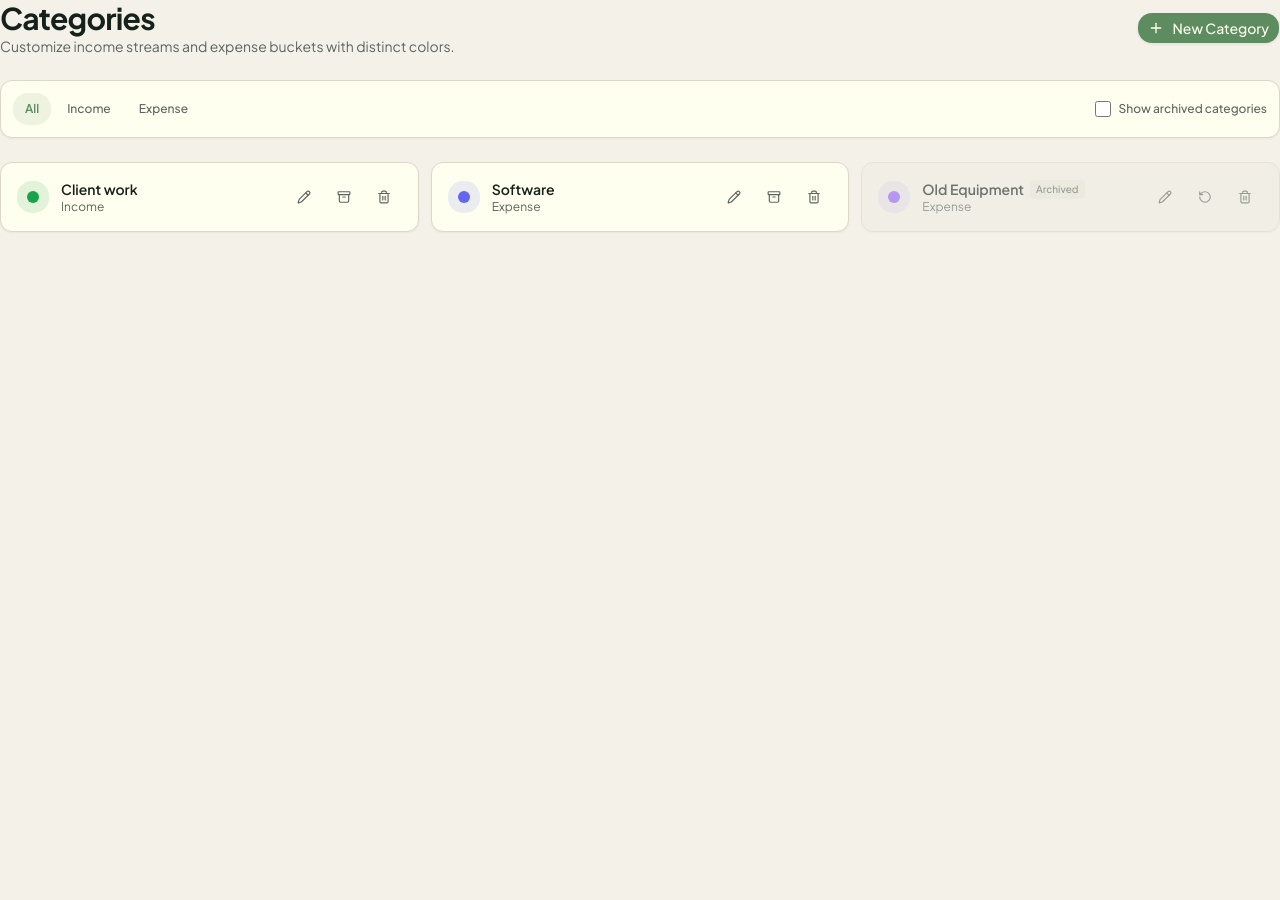
Test: CategoriesManager Component › shows 409 In-Use conflict prompt when category has transactions
Expected: the text "Client work" is shown, left=61, top=179, right=138, bottom=199
Click the button named "delete client work" at (384, 197), box left=366, top=179, right=402, bottom=215
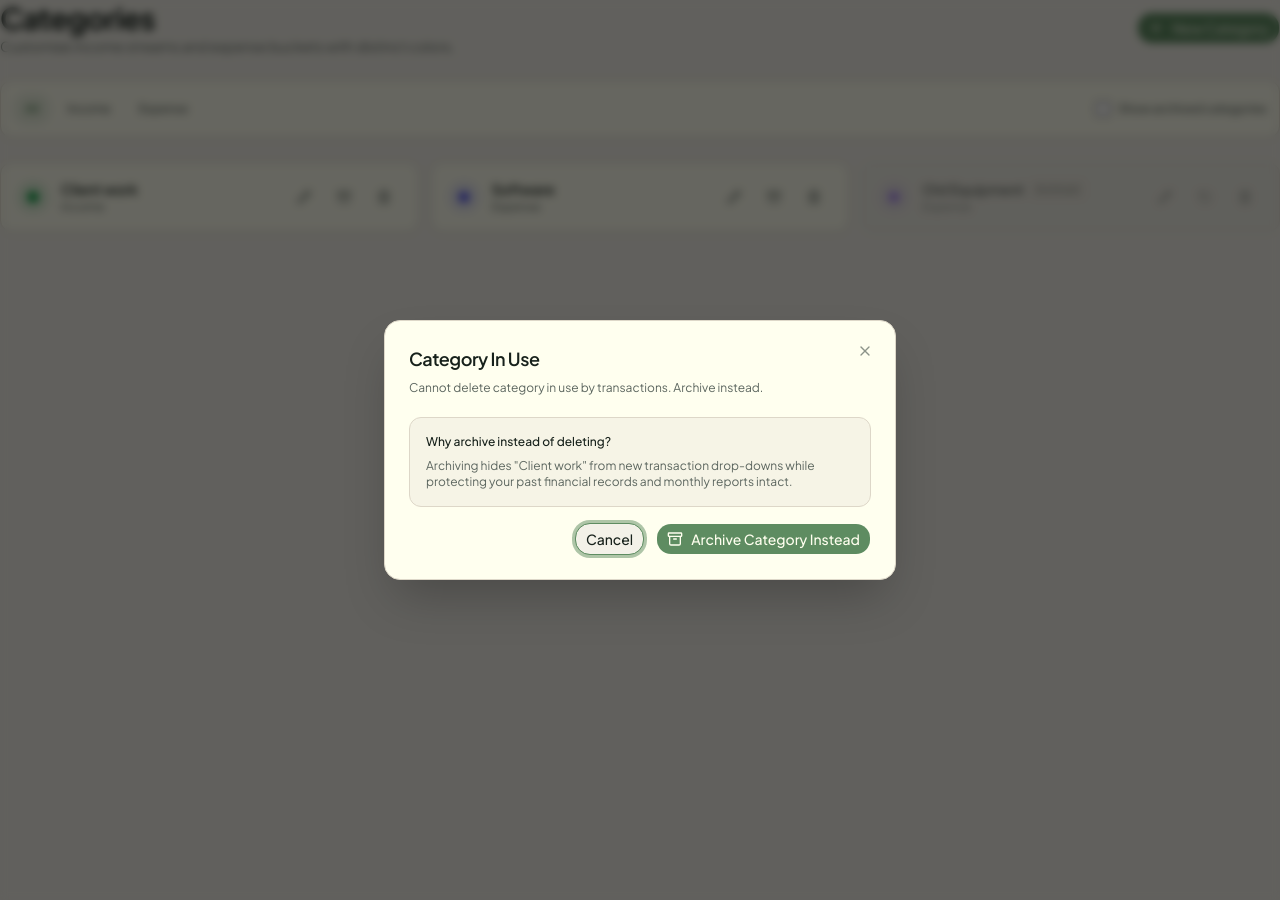
Result: the heading "Category In Use" is shown at left=409, top=347, right=540, bottom=370
Result: the button "Archive Category Instead" is shown at left=656, top=523, right=871, bottom=555
